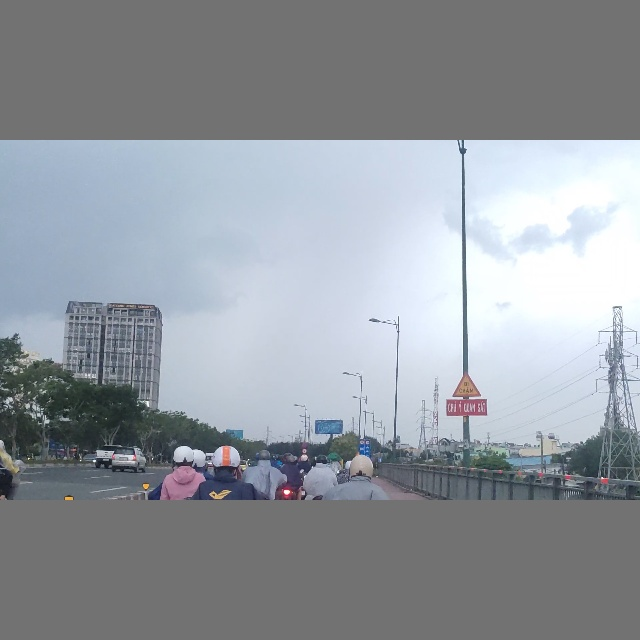W.245a: (451, 370, 483, 398)
